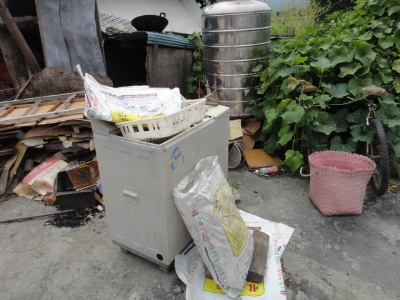bowl: (130, 11, 169, 32)
plastic_bag: (173, 153, 257, 298), (82, 70, 182, 120)
washing_machine: (82, 88, 233, 271)
water_tower: (200, 1, 272, 119)
